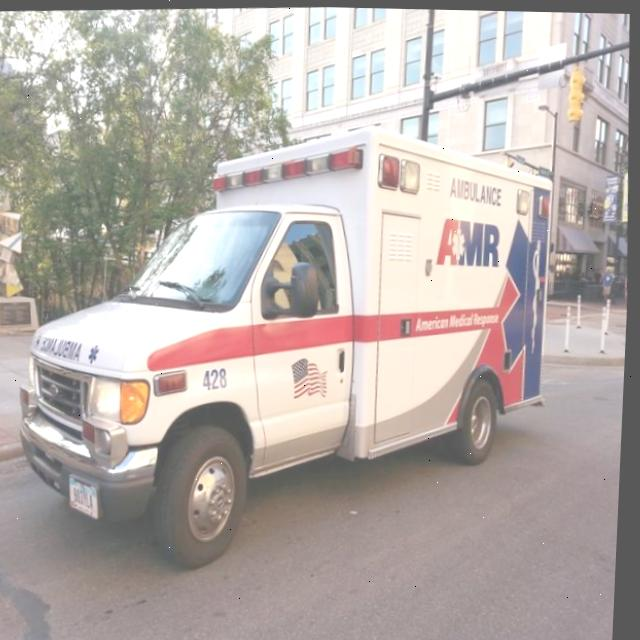emergency: (7, 114, 407, 576)
